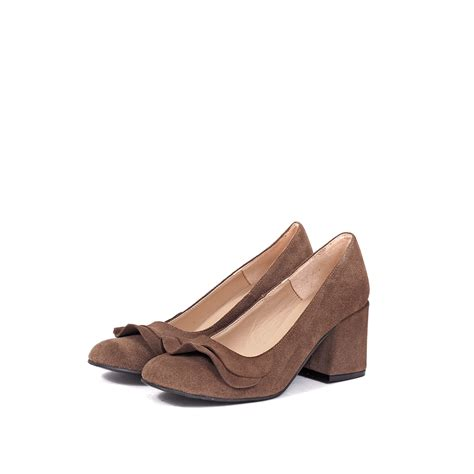gamuza: (89, 221, 368, 400)
